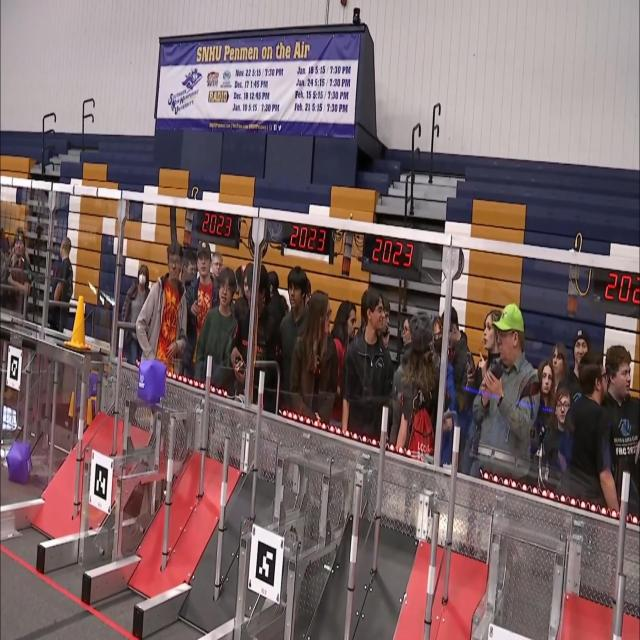frc_cone: (65, 295, 91, 353), (67, 390, 77, 419), (86, 397, 96, 426)
frc_cube: (137, 357, 166, 404), (7, 440, 33, 484), (87, 370, 99, 400)
